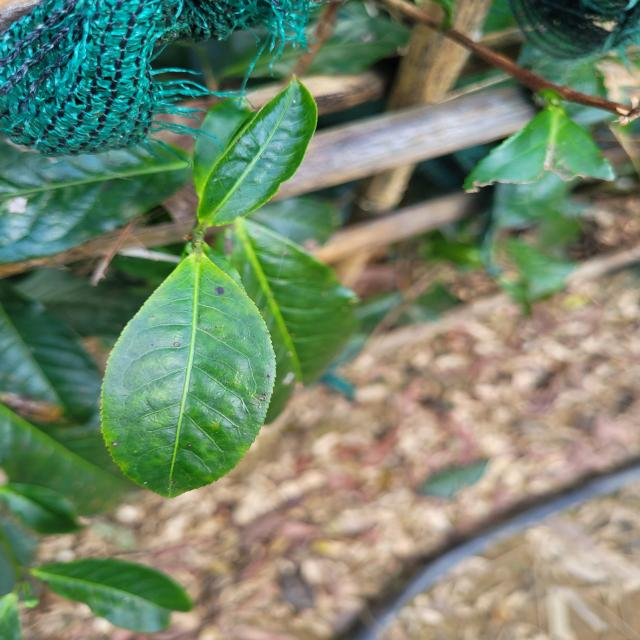Category D(7+ days, Not for Tea): (83, 242, 294, 498)
